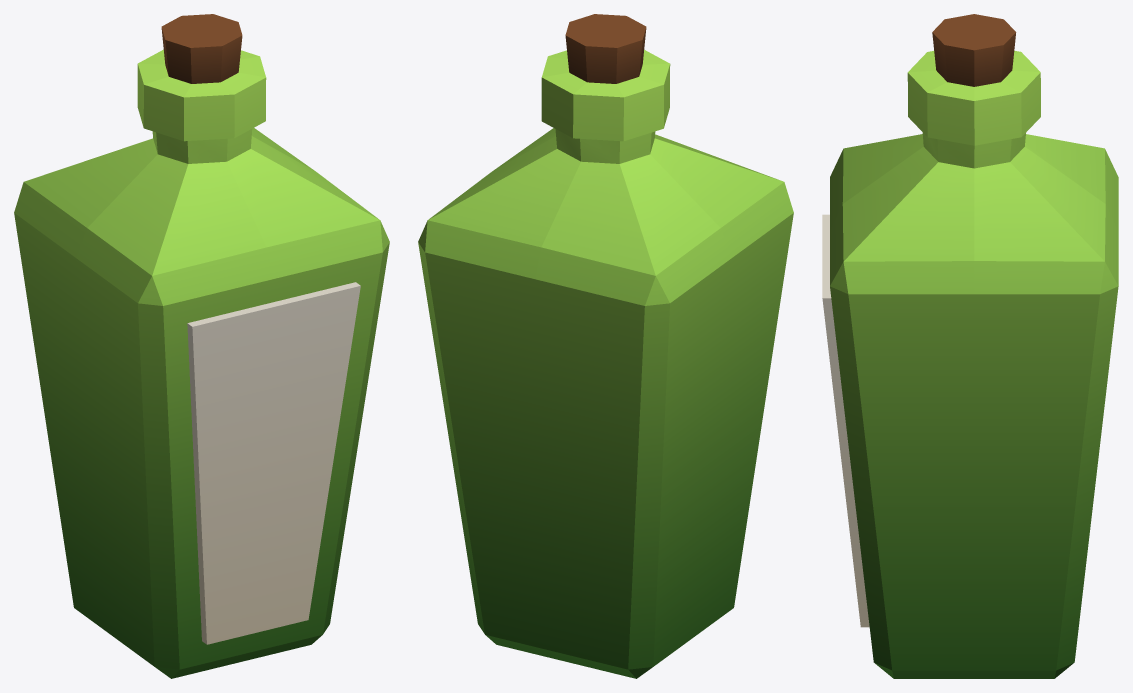
Rendered from potion_003_green.fbx.
3 views of the same model, side by side, from view 1: azimuth 30°, elevation 25°; view 2: azimuth 150°, elevation 25°; view 3: azimuth 270°, elevation 25° (orthographic).
Visible parts, largest first — view 1: potion_003_green; view 2: potion_003_green; view 3: potion_003_green.
Boxes of the visible parts, x1=… form: potion_003_green: x1=14, y1=14, x2=389, y2=678; potion_003_green: x1=418, y1=14, x2=793, y2=678; potion_003_green: x1=822, y1=14, x2=1118, y2=678.
Size of the model in its own units: 0.1753 by 0.4 by 0.1754.
